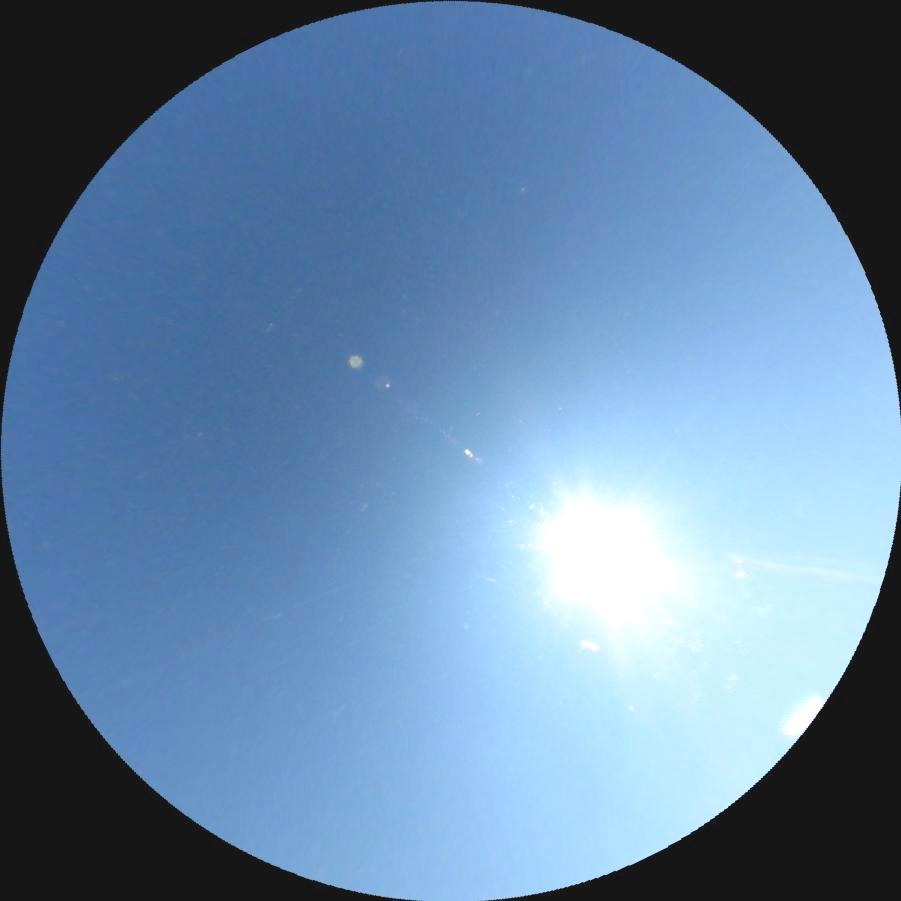contrail young: (480, 572, 497, 584)
sun: (552, 510, 649, 597)
